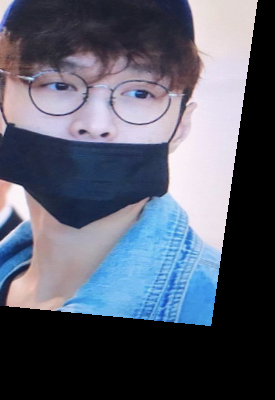mask_weared_incorrect: (2, 4, 208, 234)
